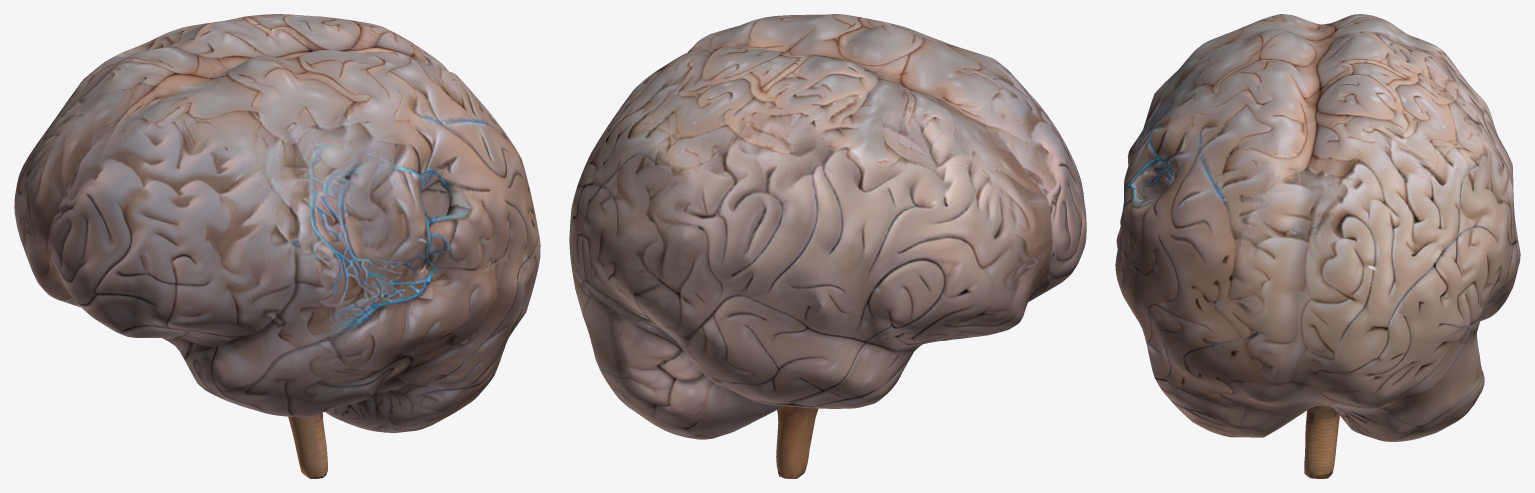
The model's file is brain.glb.
The picture shows the model from 3 angles, left to right: view 1: azimuth 30°, elevation 25°; view 2: azimuth 150°, elevation 25°; view 3: azimuth 270°, elevation 25°; orthographic projection. The views are drawn at different scales.
Size of the model in its own units: 1.2 by 1.13 by 1.01.
1 material, 1 textured.
